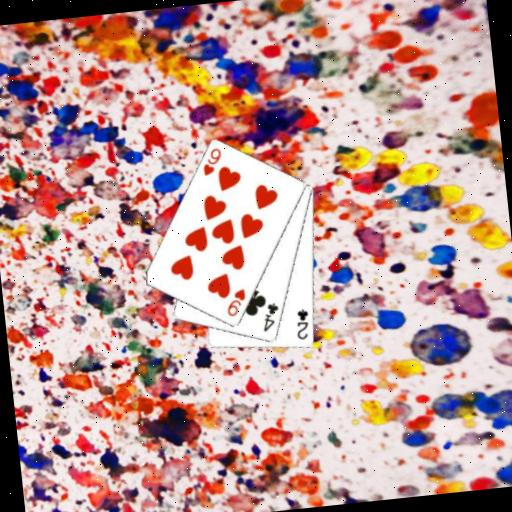2C: (292, 305, 314, 342)
4C: (258, 300, 283, 334)
9H: (222, 286, 250, 319), (198, 144, 225, 178)
